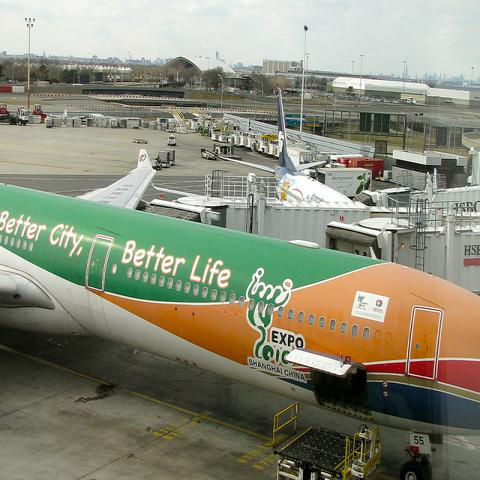car: (133, 139, 148, 143)
truck: (316, 168, 372, 197), (330, 158, 385, 178), (325, 154, 364, 168), (0, 109, 29, 125), (156, 151, 172, 168), (166, 134, 178, 146), (32, 104, 43, 114)
